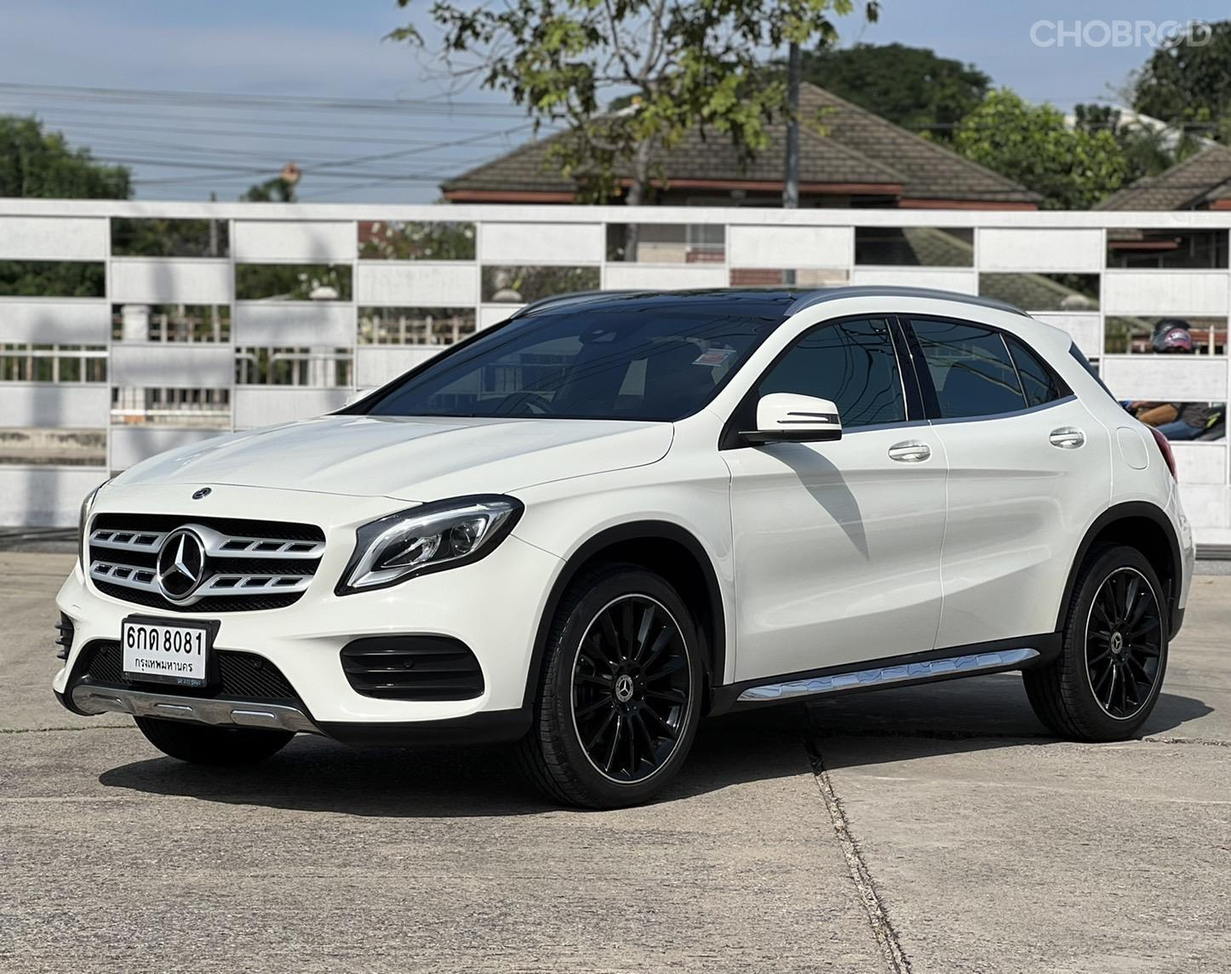license-plate: (115, 610, 217, 686)
